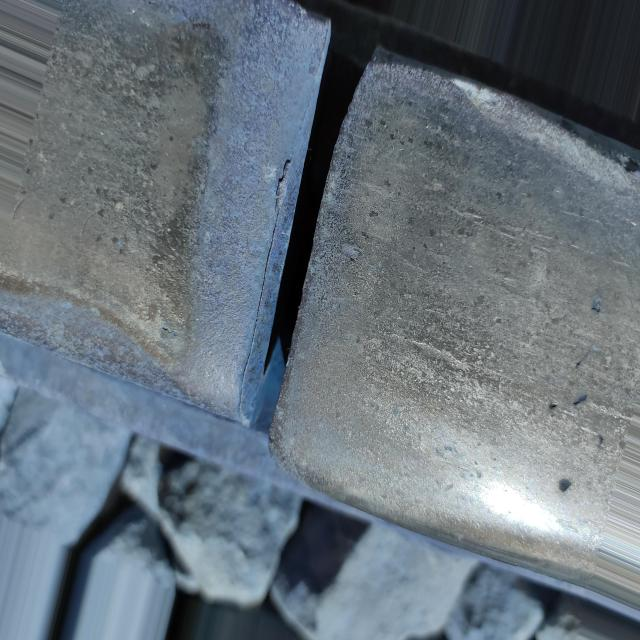crack: (146, 0, 427, 478)
